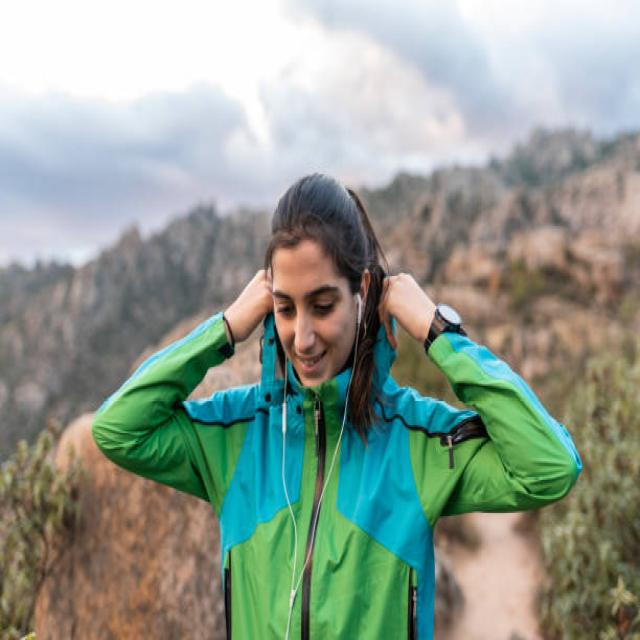Earphone: (282, 288, 364, 640)
